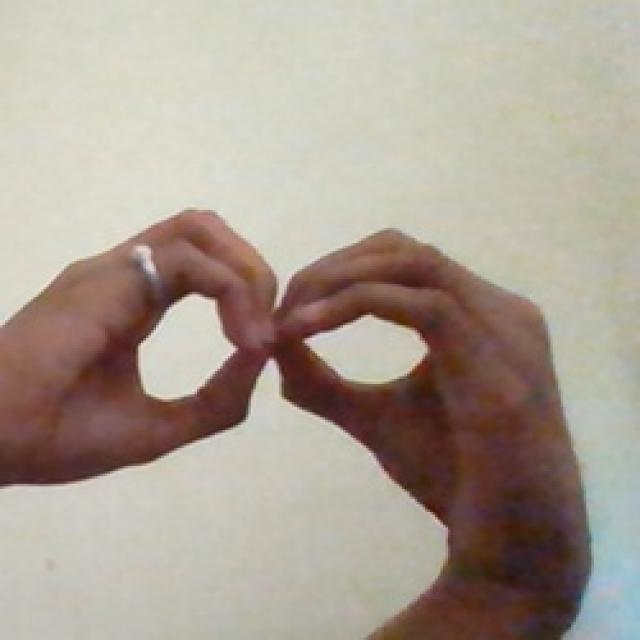Alphabet-B: (7, 201, 571, 533)
